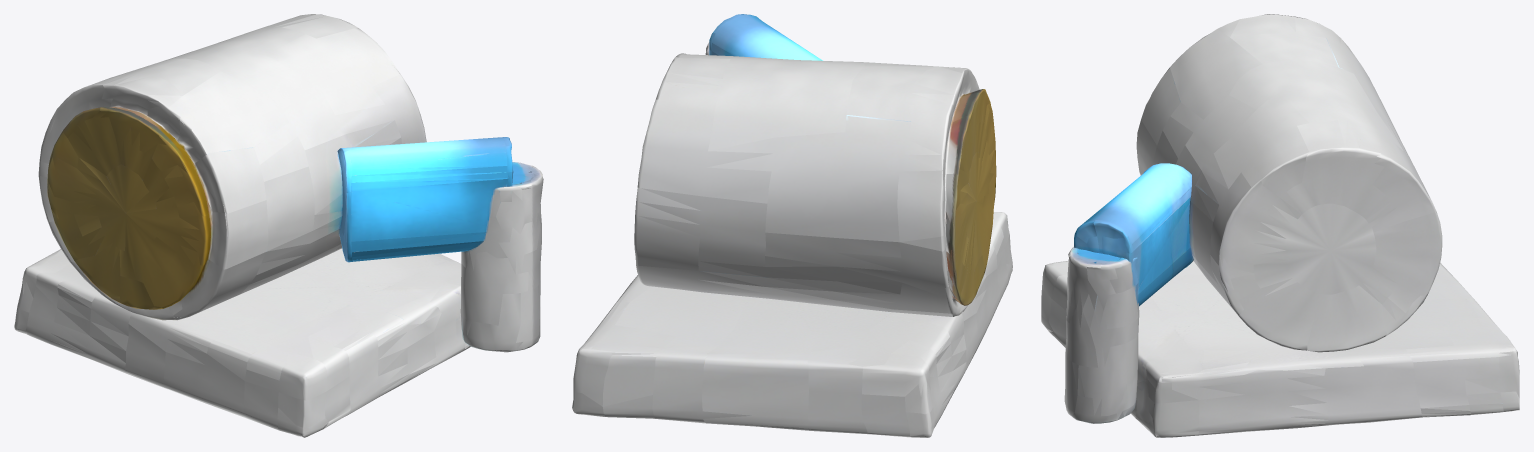
Rendered from drainage-pump.glb.
3 views of the same model, side by side, from view 1: azimuth 30°, elevation 25°; view 2: azimuth 150°, elevation 25°; view 3: azimuth 270°, elevation 25° (orthographic). The views are drawn at different scales.
Size of the model in its own units: 0.8711 by 0.6465 by 1.
Materials: 1 (1 with a texture image).
